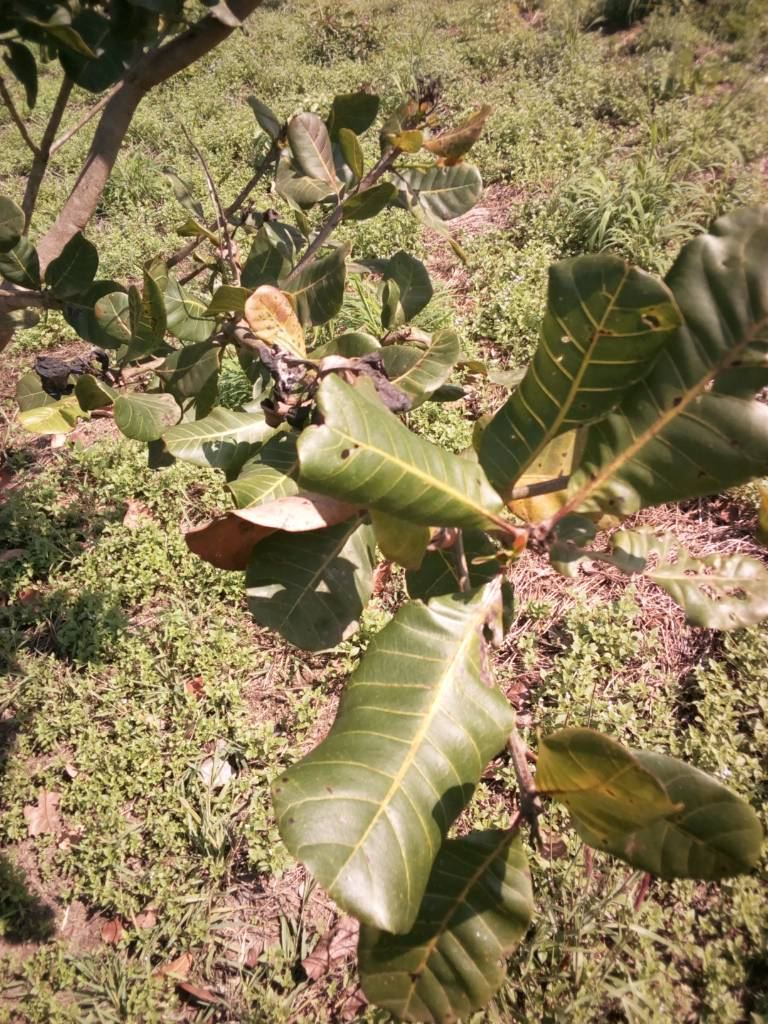Dessèchement des bourgeons: (235, 324, 330, 424)
